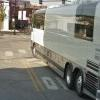Bus: (24, 5, 100, 97)
